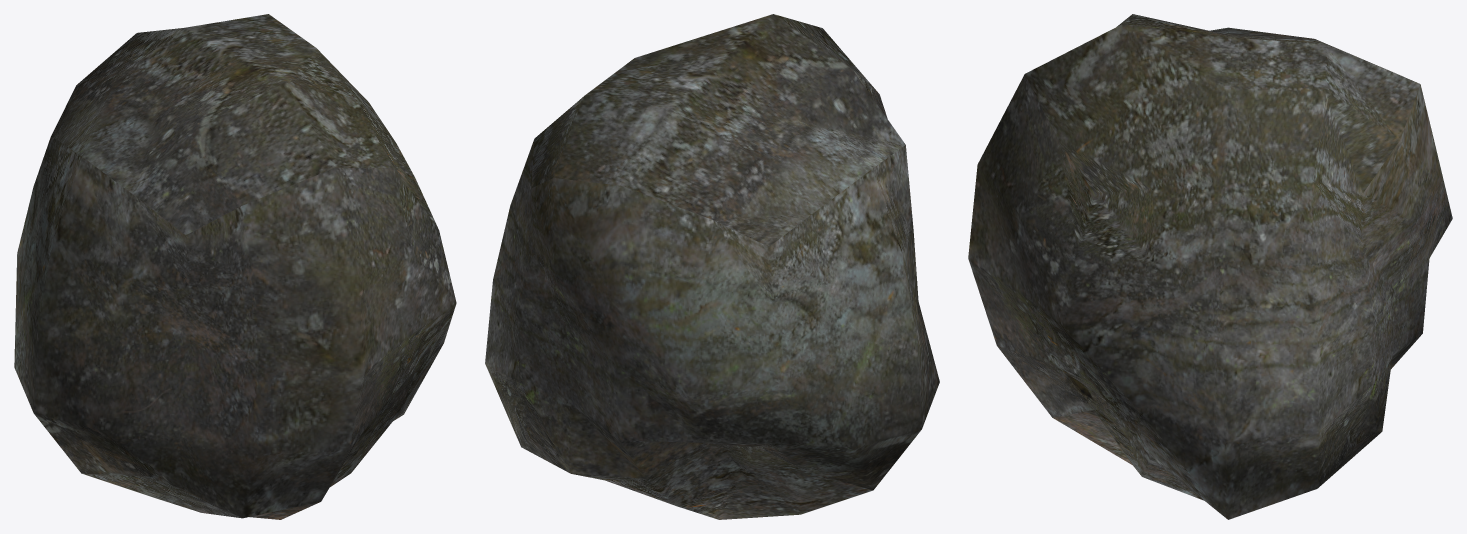
The model's file is roca01_LP.fbx.
3 renders of one model, left to right at view 1: azimuth 30°, elevation 25°; view 2: azimuth 150°, elevation 25°; view 3: azimuth 270°, elevation 25°, orthographic.
Visible parts, largest first — view 1: roca01_LP; view 2: roca01_LP; view 3: roca01_LP.
Boxes of the visible parts, x1,y1,x2,y2 form: roca01_LP: (14,14,456,519); roca01_LP: (485,14,939,519); roca01_LP: (968,14,1452,519).
Size of the model in its own units: 185 by 204 by 195.
Materials: 1 (1 with a texture image).
